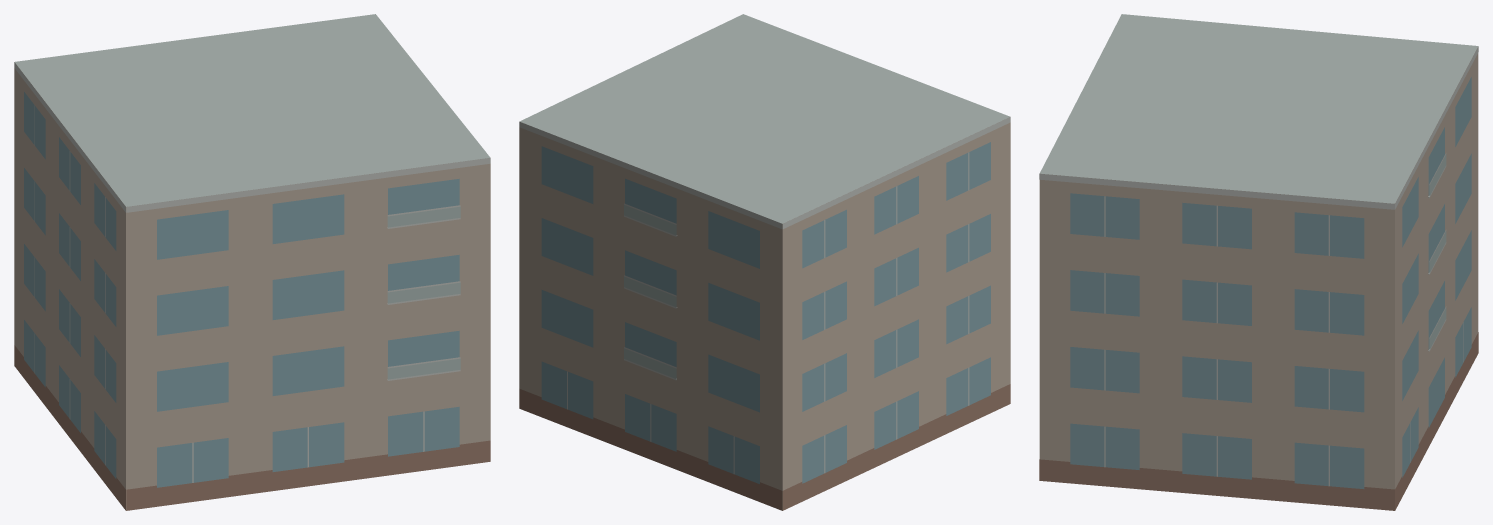
The model's file is survey-upis-32679091.glb.
3 renders of one model, left to right at view 1: azimuth 30°, elevation 25°; view 2: azimuth 150°, elevation 25°; view 3: azimuth 270°, elevation 25°, orthographic. The views are drawn at different scales.
Visible parts, largest first — view 1: survey-upis-32679091.tmp; view 2: survey-upis-32679091.tmp; view 3: survey-upis-32679091.tmp.
Boxes of the visible parts, x1,y1,x2,y2 form: survey-upis-32679091.tmp: (14, 14, 490, 510); survey-upis-32679091.tmp: (519, 14, 1010, 510); survey-upis-32679091.tmp: (1039, 14, 1478, 510).
Size of the model in its own units: 16.44 by 12.4 by 16.08.
